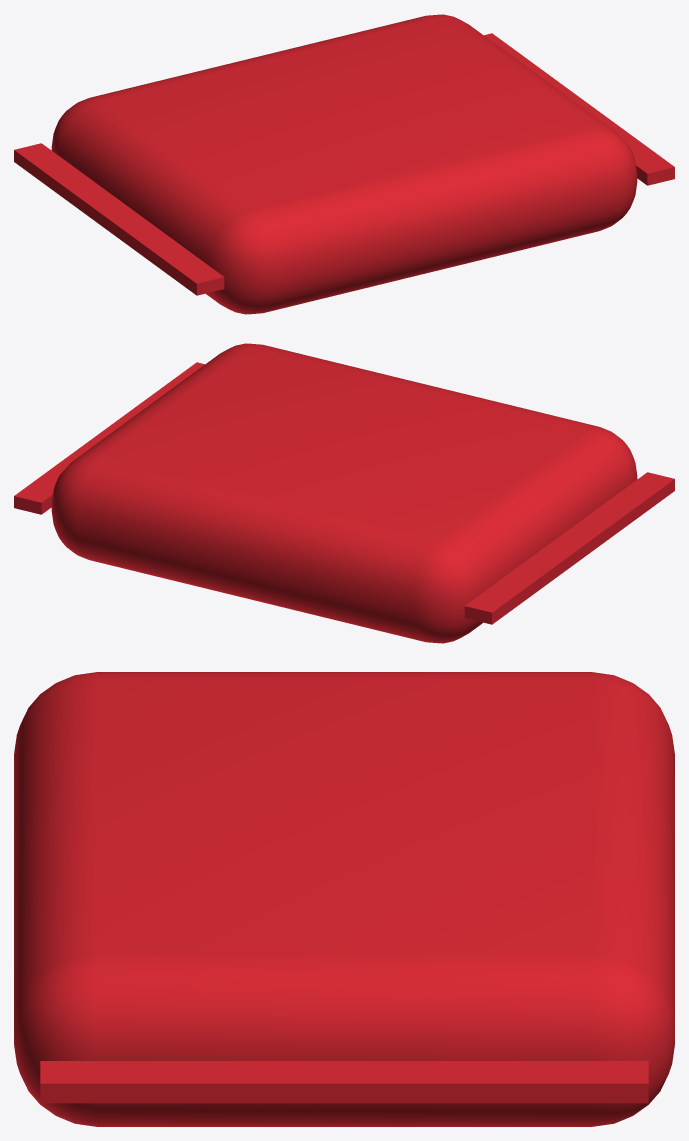
Rendered from item-pizza_cheese_1000.glb.
3 renders of one model, top to bottom at view 1: azimuth 30°, elevation 25°; view 2: azimuth 150°, elevation 25°; view 3: azimuth 270°, elevation 25°, orthographic. The views are drawn at different scales.
Parts seen in each view (by area): view 1: body, seal, seal.001; view 2: body, seal, seal.001; view 3: body, seal.001.
Boxes of the visible parts, left/top/right/bottom form: body: left=51, top=14, right=637, bottom=314; seal: left=14, top=143, right=224, bottom=295; seal.001: left=484, top=33, right=674, bottom=185; body: left=51, top=343, right=637, bottom=643; seal: left=464, top=472, right=674, bottom=624; seal.001: left=14, top=362, right=204, bottom=514; body: left=14, top=672, right=674, bottom=1126; seal.001: left=40, top=1061, right=648, bottom=1103.
Size of the model in its own units: 0.25 by 0.05 by 0.18.
